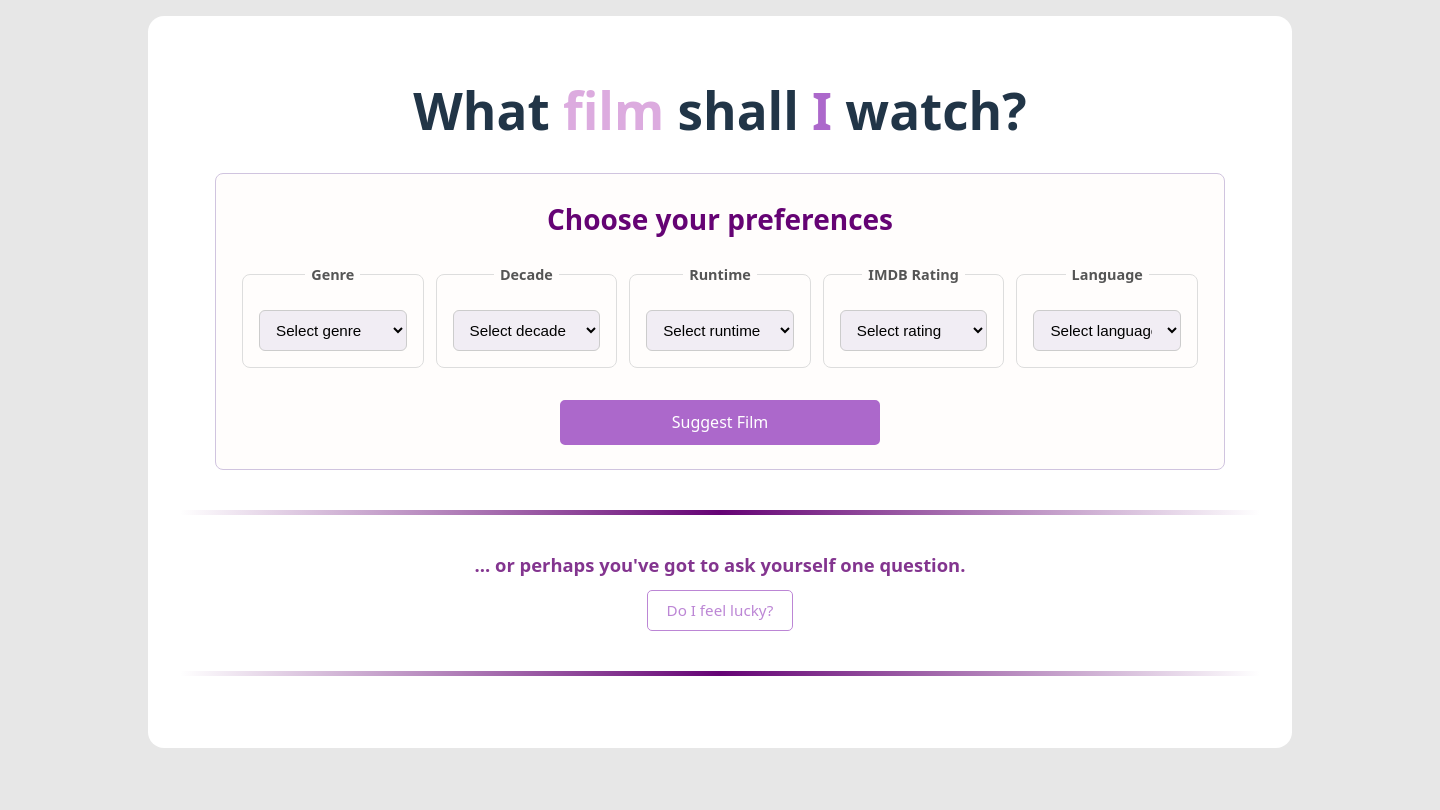
Test: App Component › "Suggest film" endpoint › successfully displays a film with selected filter options
select options from the film selector component
Select "Sci Fi" in the dropdown named "genre" below "Genre" at point(333, 330), box top-left (259, 310), bottom-right (407, 350)
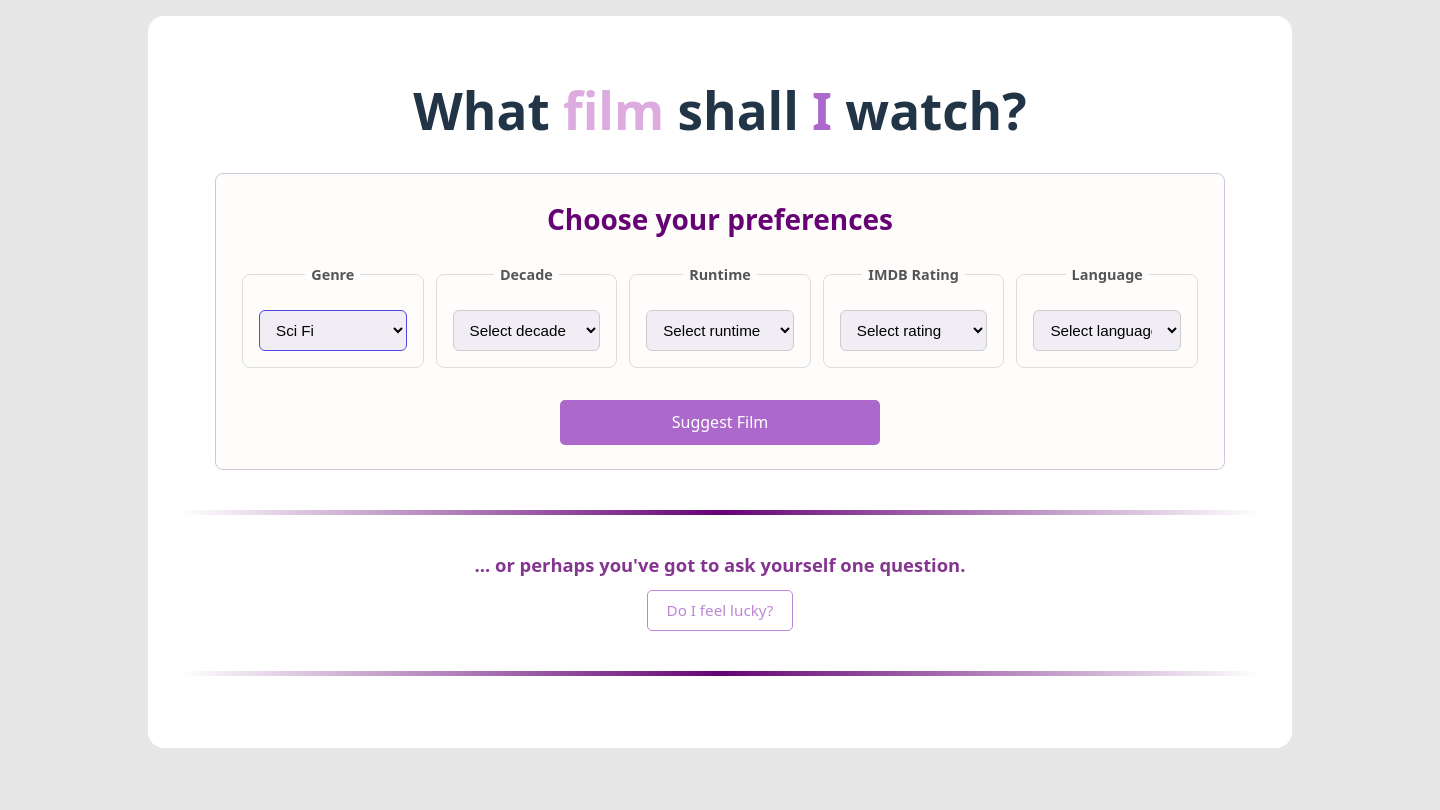
Select "90s" in the dropdown named "decade" below "Decade" at point(526, 330), box top-left (453, 310), bottom-right (600, 350)
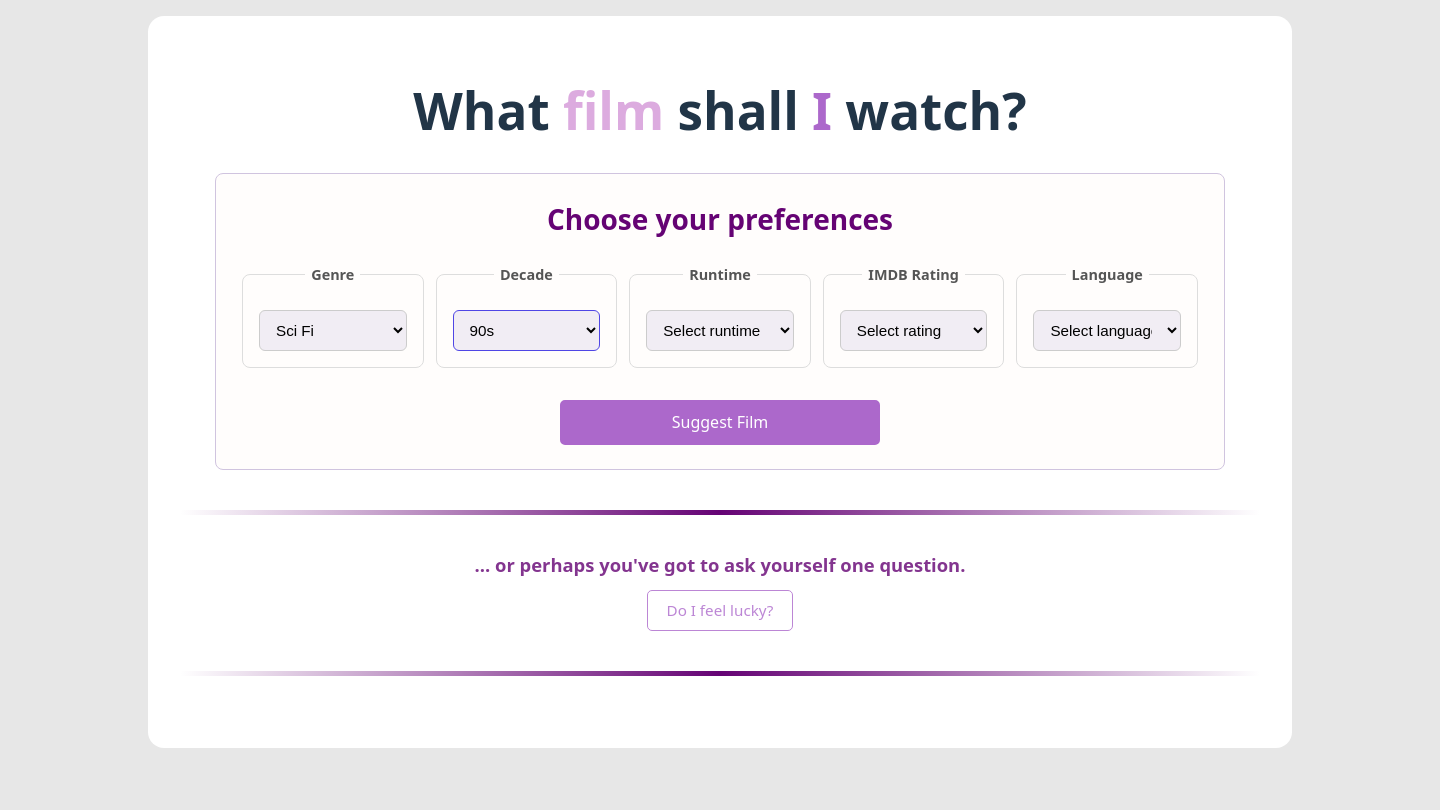
Select "any length" in the dropdown named "runtime" below "Runtime" at point(720, 330), box top-left (646, 310), bottom-right (794, 350)
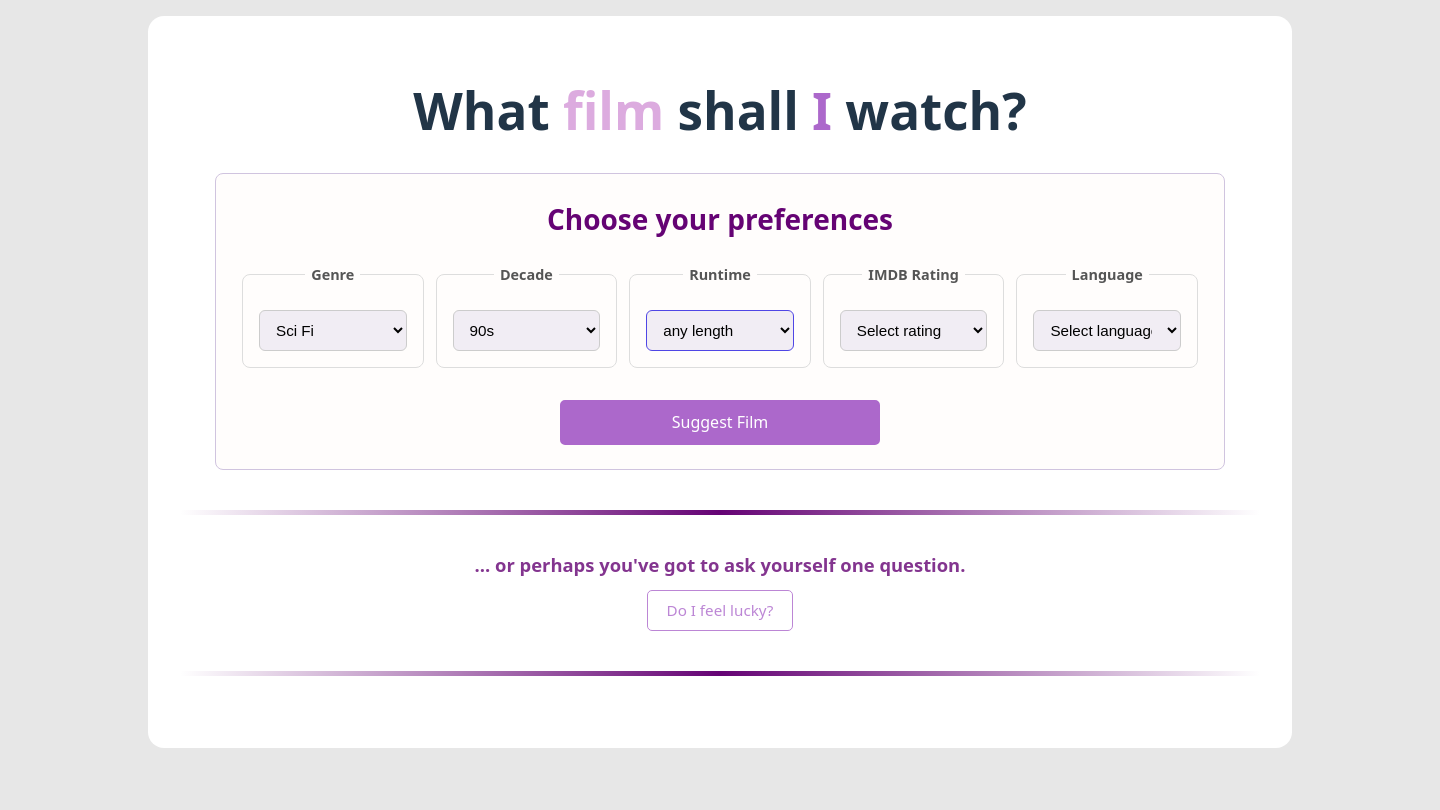
Select "7 or higher" in the dropdown named "rating" below "IMDB Rating" at point(914, 330), box top-left (840, 310), bottom-right (987, 350)
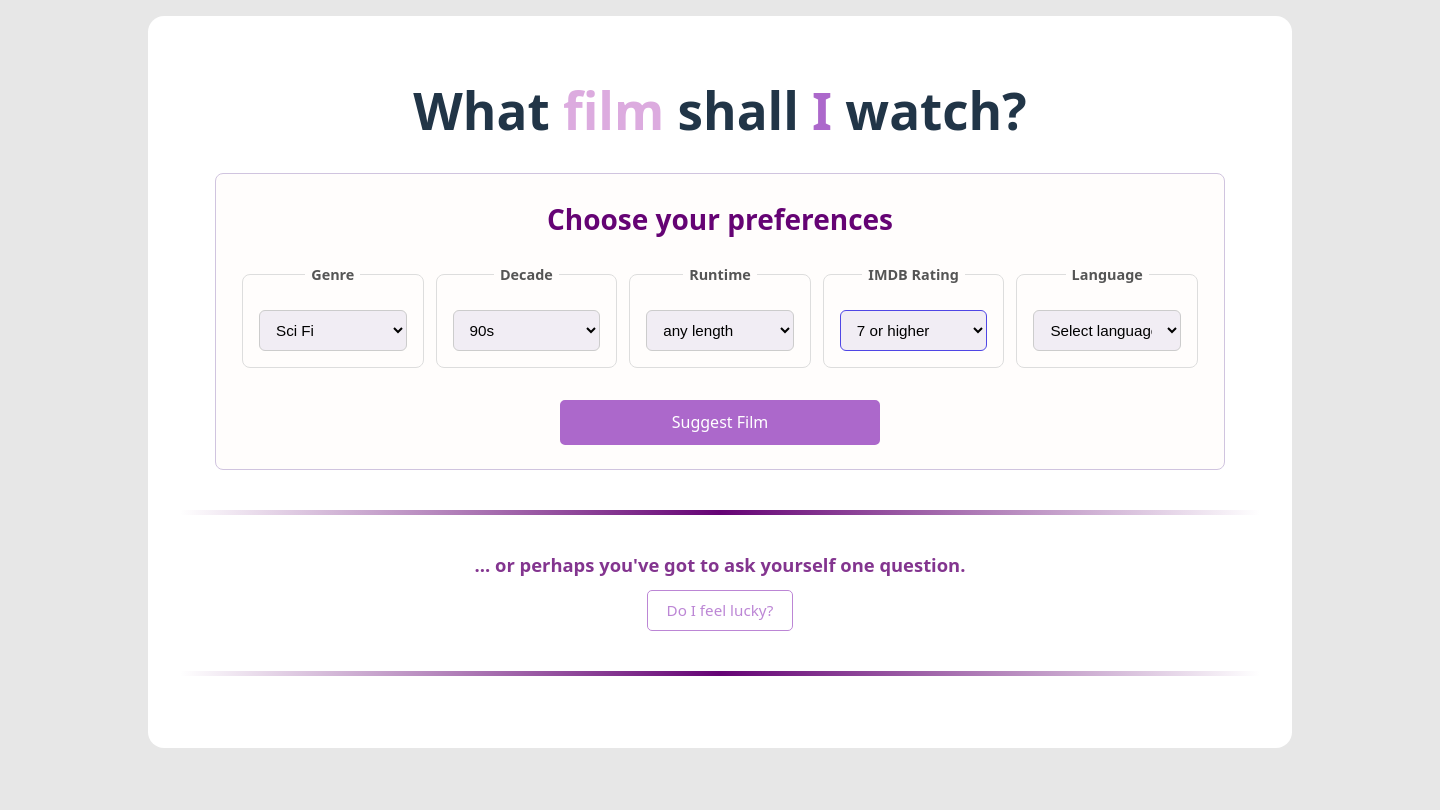
Select "English" in the dropdown named "language" below "Language" at point(1107, 330), box top-left (1033, 310), bottom-right (1181, 350)
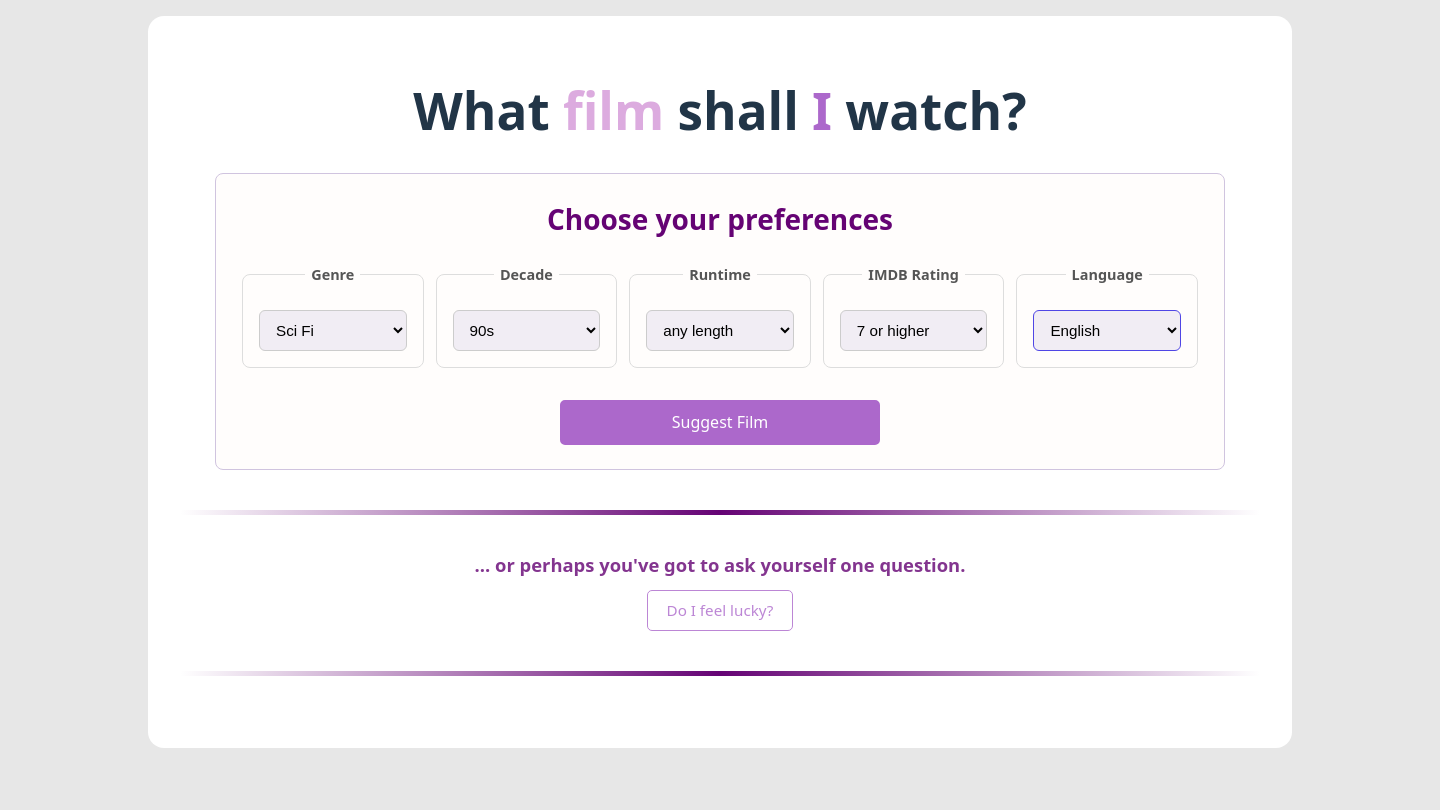
click suggest film button
Click the button "Suggest Film".
click(720, 422)  # box top-left (560, 400), bottom-right (880, 445)
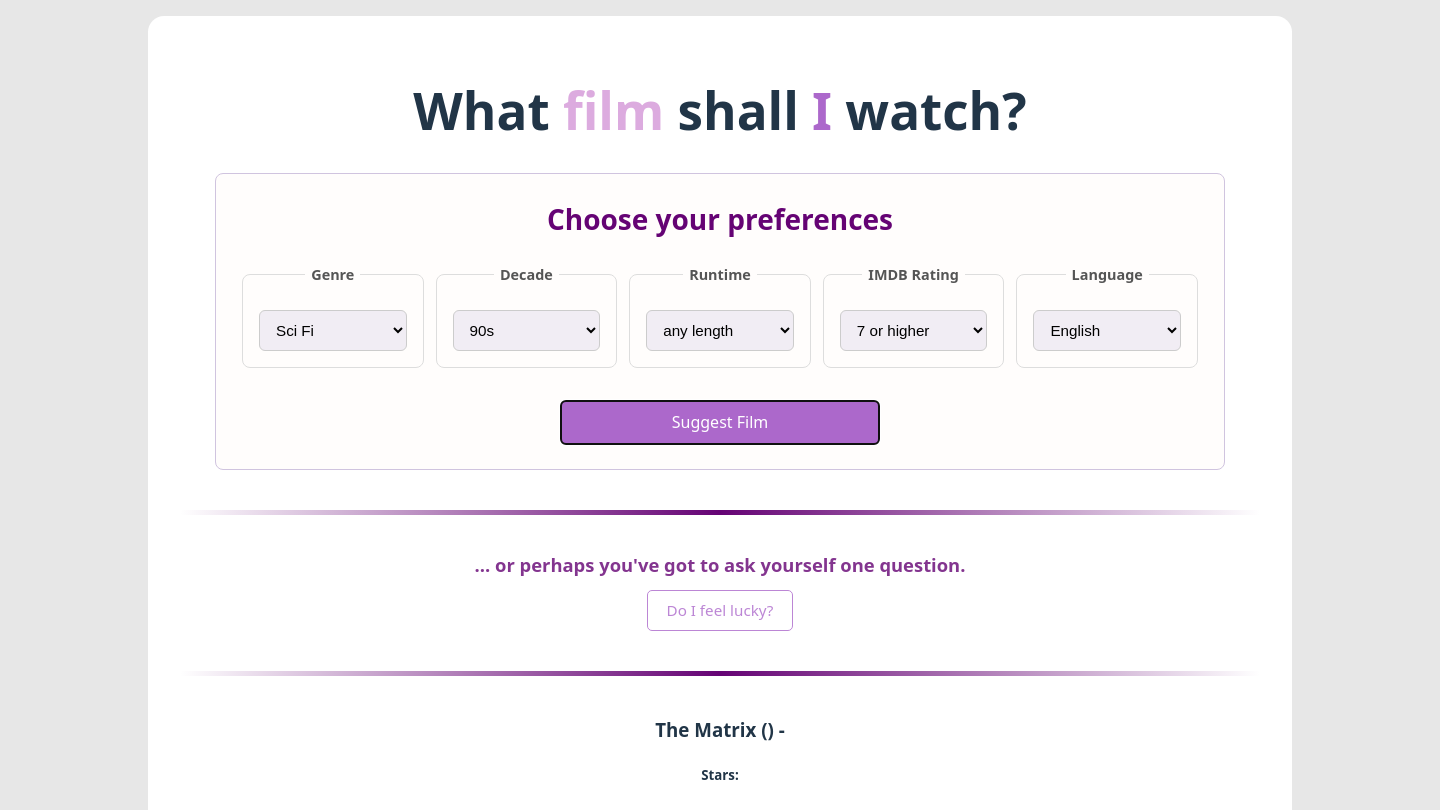
Check: the heading "The Matrix () -" is shown, box top-left (655, 716), bottom-right (785, 742)
